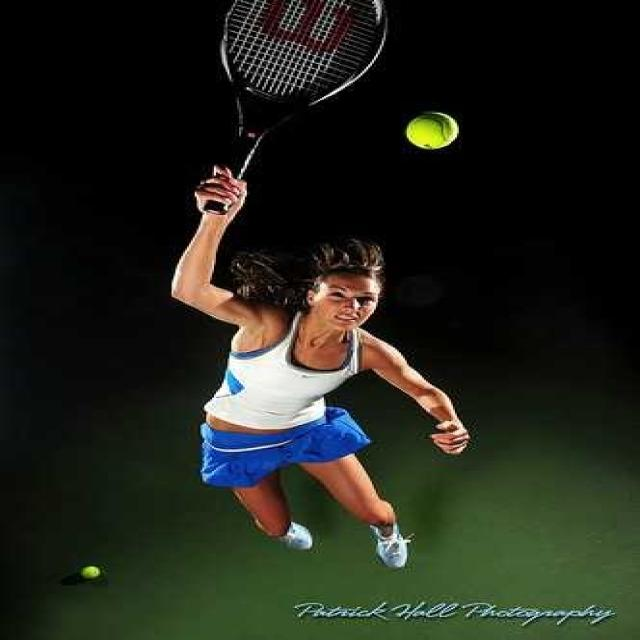Tennis_Ball: (402, 114, 458, 152), (83, 567, 98, 578)
